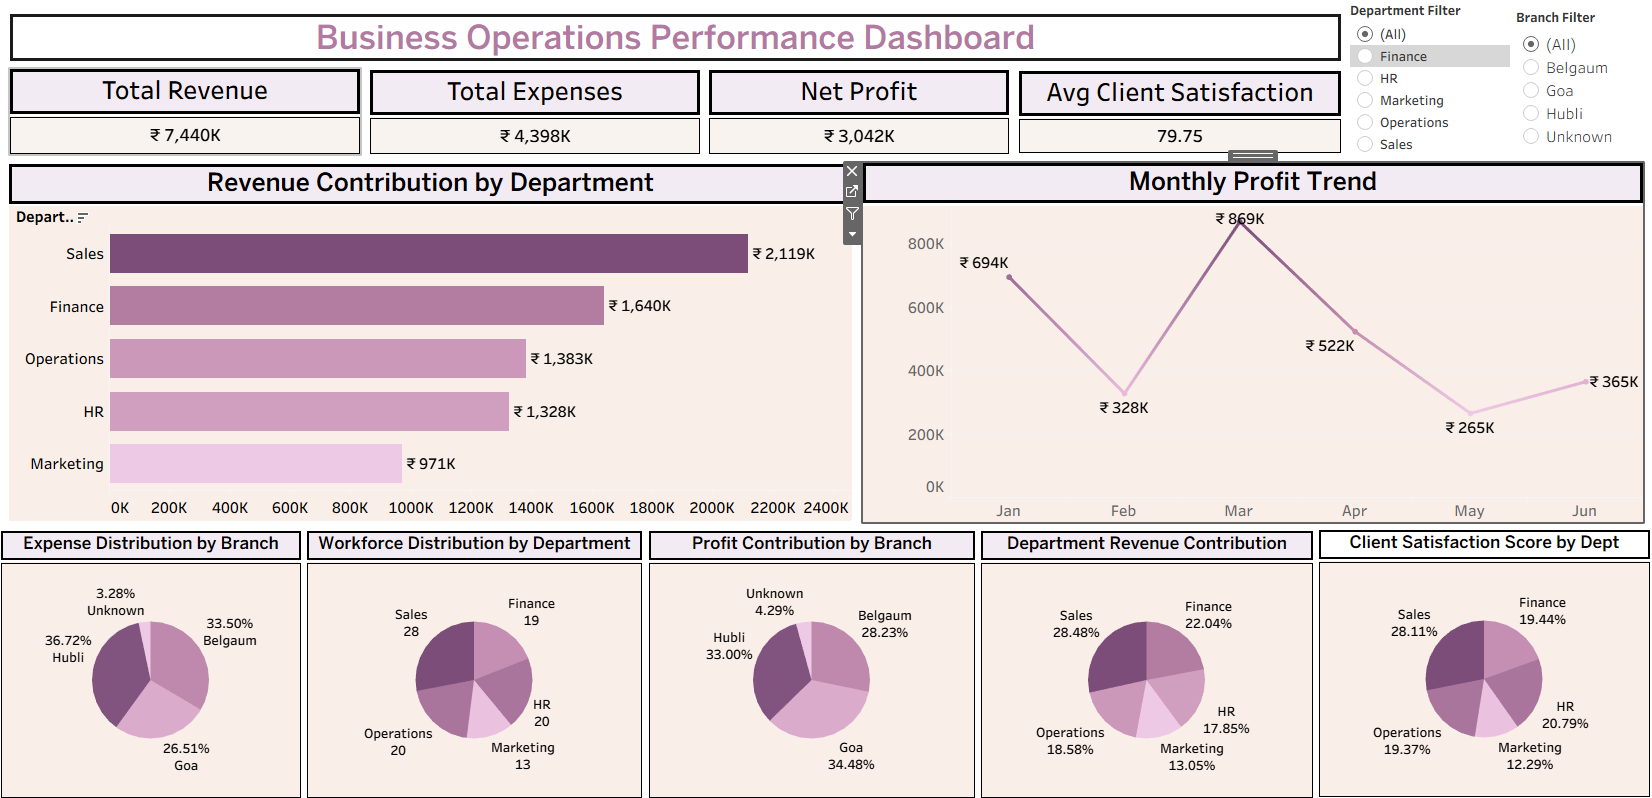

The dashboard page shown, as its layout file describes it:
{"tool":"tableau","page":{"name":"Business Operations Performance Dashboard","canvas":[1000,1000],"units":"permille","ordinal":0},"visuals":[{"type":"filter","title":"Department Revenue Contribution","param":"[federated.0khj7nc0y0n6a31auronx0m3c6p5].[none:Department:nk]","box":[815.3,2.5,96.6,188.5]},{"type":"filter","title":"Profit Contribution by Branch","param":"[federated.0khj7nc0y0n6a31auronx0m3c6p5].[none:Branch:nk]","box":[915.5,11.2,76,184.8]},{"type":"title","box":[6.6,18.7,803.3,58.7]},{"type":"worksheet","title":"Total Revenue","mark":"Automatic","box":[6.6,87.4,211.2,106.1]},{"type":"worksheet","title":"Total Expenses","mark":"Automatic","box":[223.9,88.6,199.2,104.9]},{"type":"worksheet","title":"Net Profit","mark":"Automatic","box":[428.5,88.6,181.1,104.9]},{"type":"worksheet","title":"Avg Client Satisfaction","mark":"Automatic","box":[615.6,89.9,194.3,102.4]},{"type":"worksheet","title":"Revenue Contribution by Department","mark":"Bar","rows":["Department"],"cols":["Revenue Generated"],"box":[6,206,508.8,445.7]},{"type":"worksheet","title":"Monthly Profit Trend","mark":"Bar","rows":["Calculation_1285777699370352642"],"cols":["Month"],"box":[519,206,479.8,445.7]},{"type":"worksheet","title":"Client Satisfaction Score by Dept","mark":"Pie","box":[796.6,662.9,199.8,333.3]},{"type":"worksheet","title":"Expense Distribution by Branch","mark":"Pie","box":[0.6,664.2,181.1,333.3]},{"type":"worksheet","title":"Workforce Distribution by Department","mark":"Pie","box":[185.3,664.2,202.2,333.3]},{"type":"worksheet","title":"Profit Contribution by Branch","mark":"Pie","box":[391.1,664.2,196.7,333.3]},{"type":"worksheet","title":"Department Revenue Contribution","mark":"Pie","box":[592,664.2,200.4,333.3]}]}

Visuals, with their boxes on the dashboard's canvas, which has no fixed pixel size, in thousandths of its width and height (x1, y1, x2, y2). These are canvas units, not pixel positions in the 1652x798 screenshot, which may show the page scaled, cropped or inside an application window:
"Department Revenue Contribution" filter: (815,2,912,191)
"Profit Contribution by Branch" filter: (916,11,992,196)
title: (7,19,810,77)
"Total Revenue" worksheet: (7,87,218,194)
"Total Expenses" worksheet: (224,89,423,194)
"Net Profit" worksheet: (428,89,610,194)
"Avg Client Satisfaction" worksheet: (616,90,810,192)
"Revenue Contribution by Department" worksheet (Bar marks): (6,206,515,652)
"Monthly Profit Trend" worksheet (Bar marks): (519,206,999,652)
"Client Satisfaction Score by Dept" worksheet (Pie marks): (797,663,996,996)
"Expense Distribution by Branch" worksheet (Pie marks): (1,664,182,998)
"Workforce Distribution by Department" worksheet (Pie marks): (185,664,388,998)
"Profit Contribution by Branch" worksheet (Pie marks): (391,664,588,998)
"Department Revenue Contribution" worksheet (Pie marks): (592,664,792,998)
